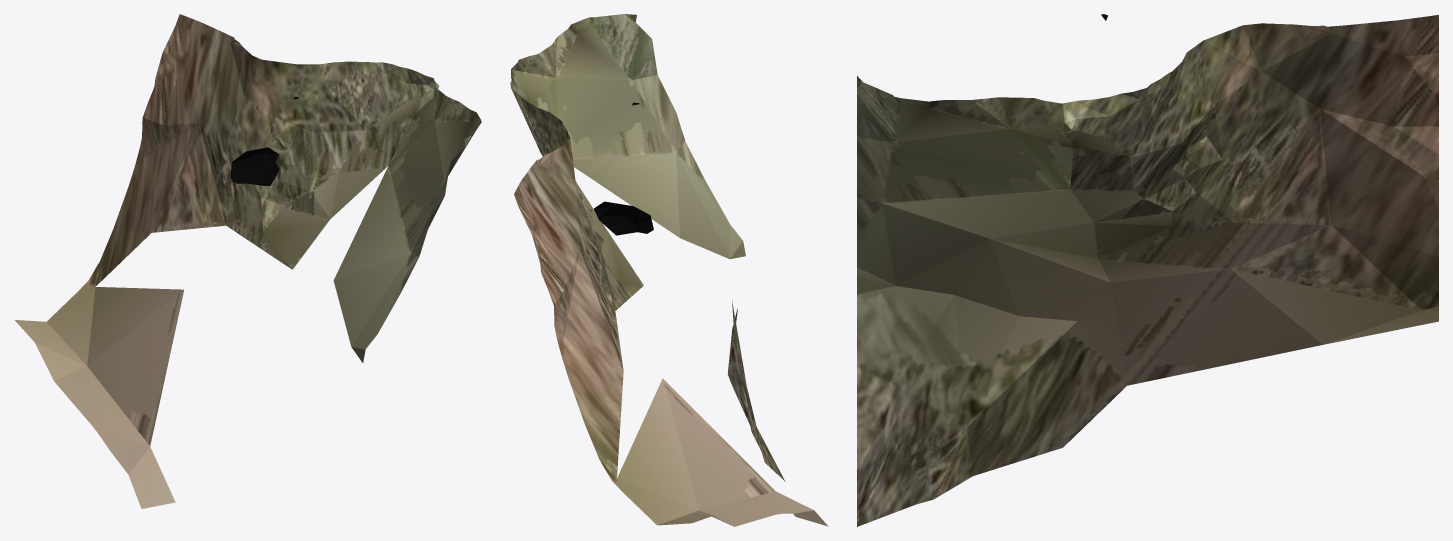
3 renders of one model, left to right at view 1: azimuth 30°, elevation 25°; view 2: azimuth 150°, elevation 25°; view 3: azimuth 270°, elevation 25°, orthographic. The views are drawn at different scales.
Bounding box in the file's own units: 2.53 × 2.95 × 2.95.
3 materials, 3 textured.
